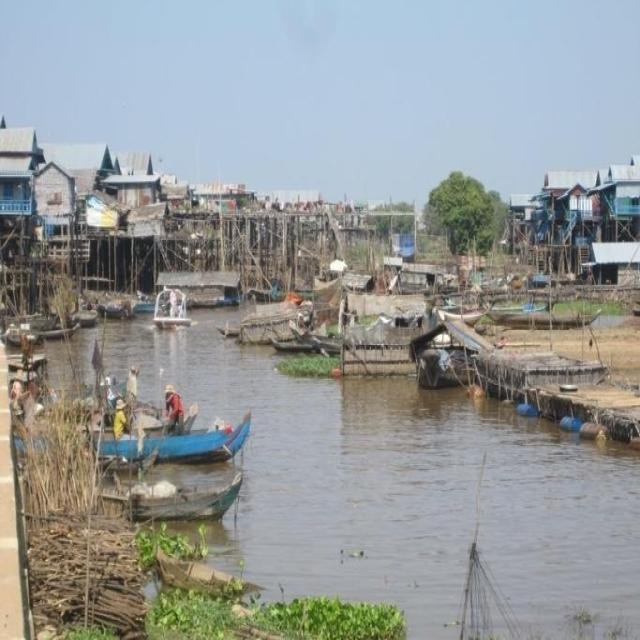Hyacinth: (153, 590, 391, 640), (135, 526, 207, 574), (275, 342, 342, 382), (570, 604, 603, 637), (338, 548, 374, 564)
boat: (0, 416, 269, 466), (150, 288, 190, 331)
